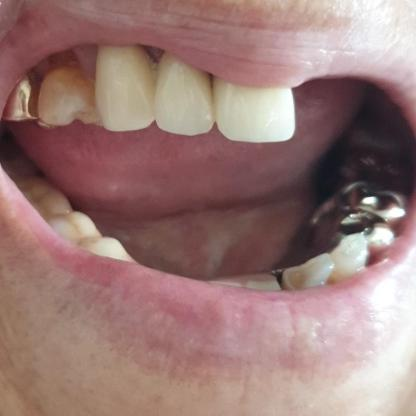Missing: (219, 65, 414, 153)
